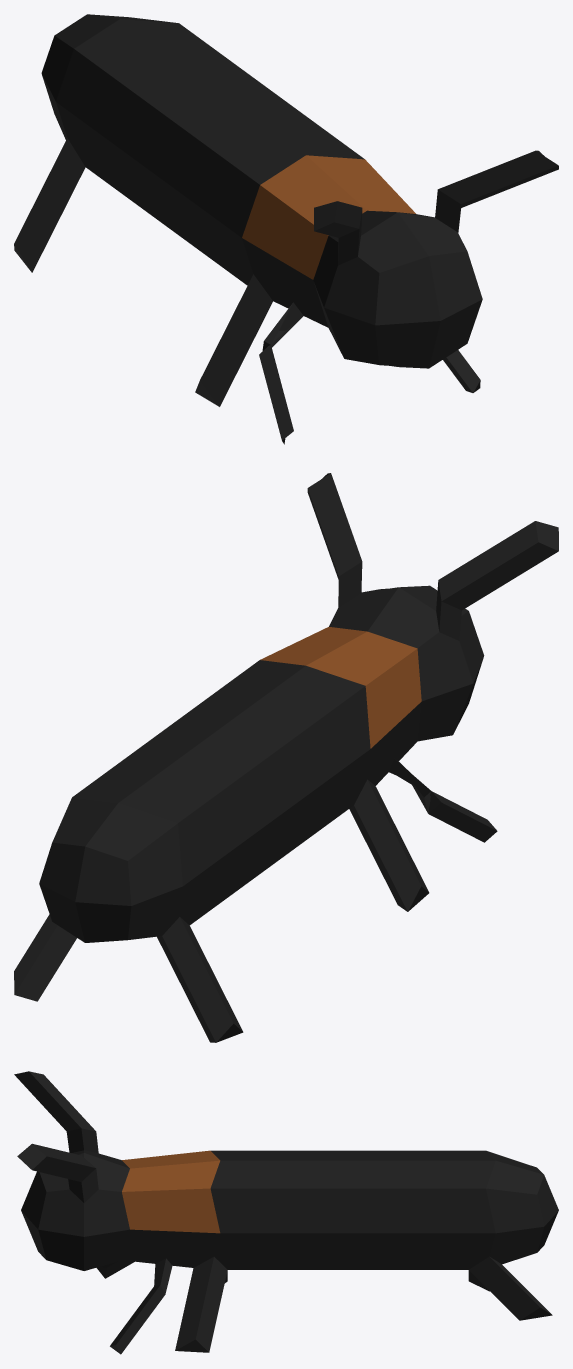
The model's file is caneBorer.fbx.
3 views of the same model, one above another, from view 1: azimuth 30°, elevation 25°; view 2: azimuth 150°, elevation 25°; view 3: azimuth 270°, elevation 25° (orthographic). The views are drawn at different scales.
Parts seen in each view (by area): view 1: caneBorer; view 2: caneBorer; view 3: caneBorer.
Part boxes in pixels (<box>): caneBorer: <box>14,14,558,444</box>; caneBorer: <box>14,473,558,1042</box>; caneBorer: <box>14,1071,558,1354</box>.
Bounding box in the file's own units: 561 × 633 × 1447.
